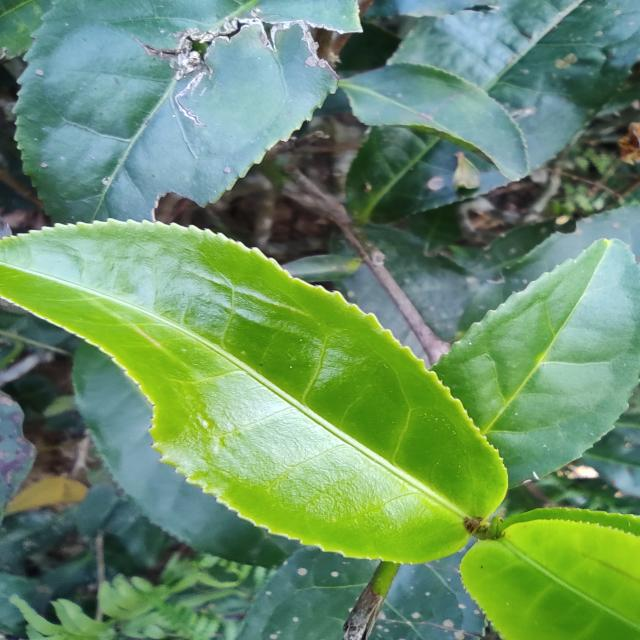Category B(2-4 days): (0, 209, 517, 569)
